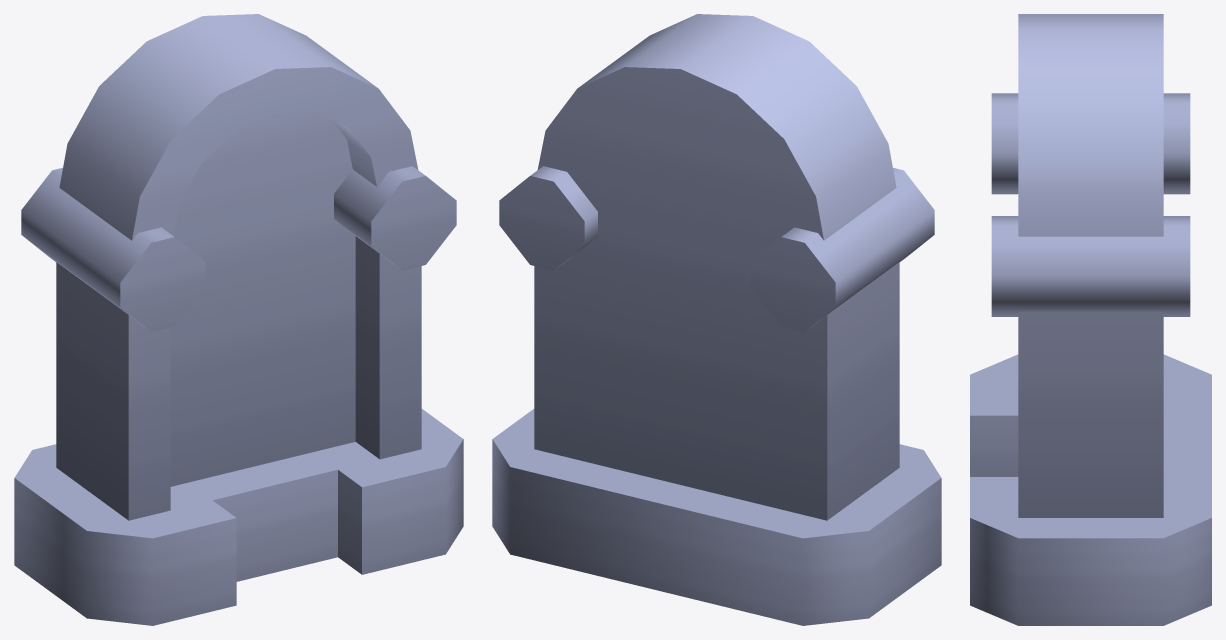
File: grave.gravestone_round.glb
The picture shows the model from 3 angles, left to right: view 1: azimuth 30°, elevation 25°; view 2: azimuth 150°, elevation 25°; view 3: azimuth 270°, elevation 25°; orthographic projection.
Parts seen in each view (by area): view 1: gravestone-round; view 2: gravestone-round; view 3: gravestone-round.
Boxes of the visible parts, x1=… form: gravestone-round: x1=14, y1=14, x2=463, y2=625; gravestone-round: x1=492, y1=14, x2=941, y2=625; gravestone-round: x1=970, y1=14, x2=1211, y2=625.
Bounding box in the file's own units: 1.07 × 1.37 × 0.5966.
Materials: 1 (1 with a texture image).
